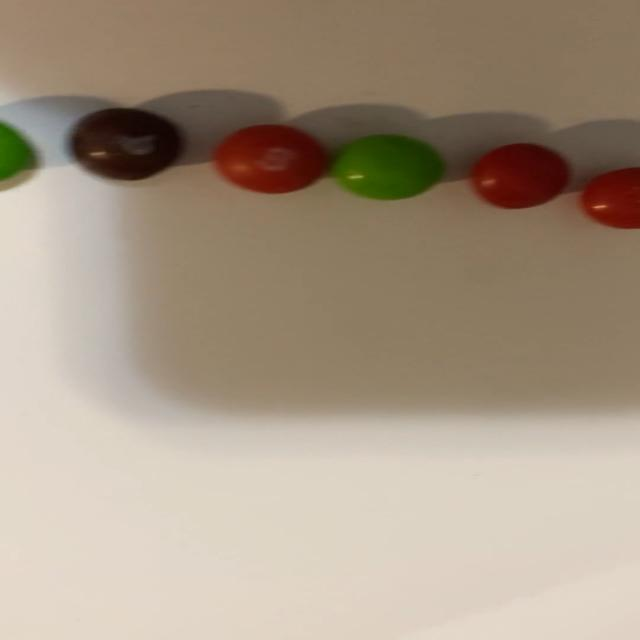smartie: (68, 107, 180, 180), (212, 124, 329, 193), (330, 134, 444, 199), (471, 143, 569, 208), (581, 167, 640, 228)
